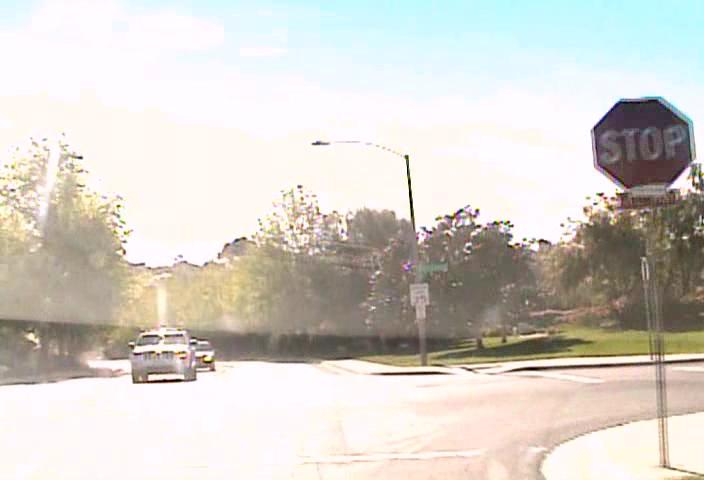stop: (591, 96, 695, 191)
